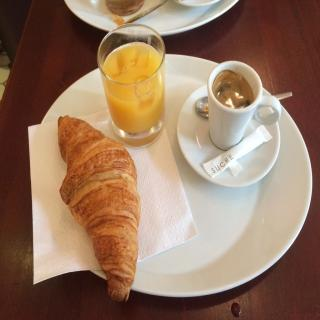Croissant: (59, 115, 141, 303)
